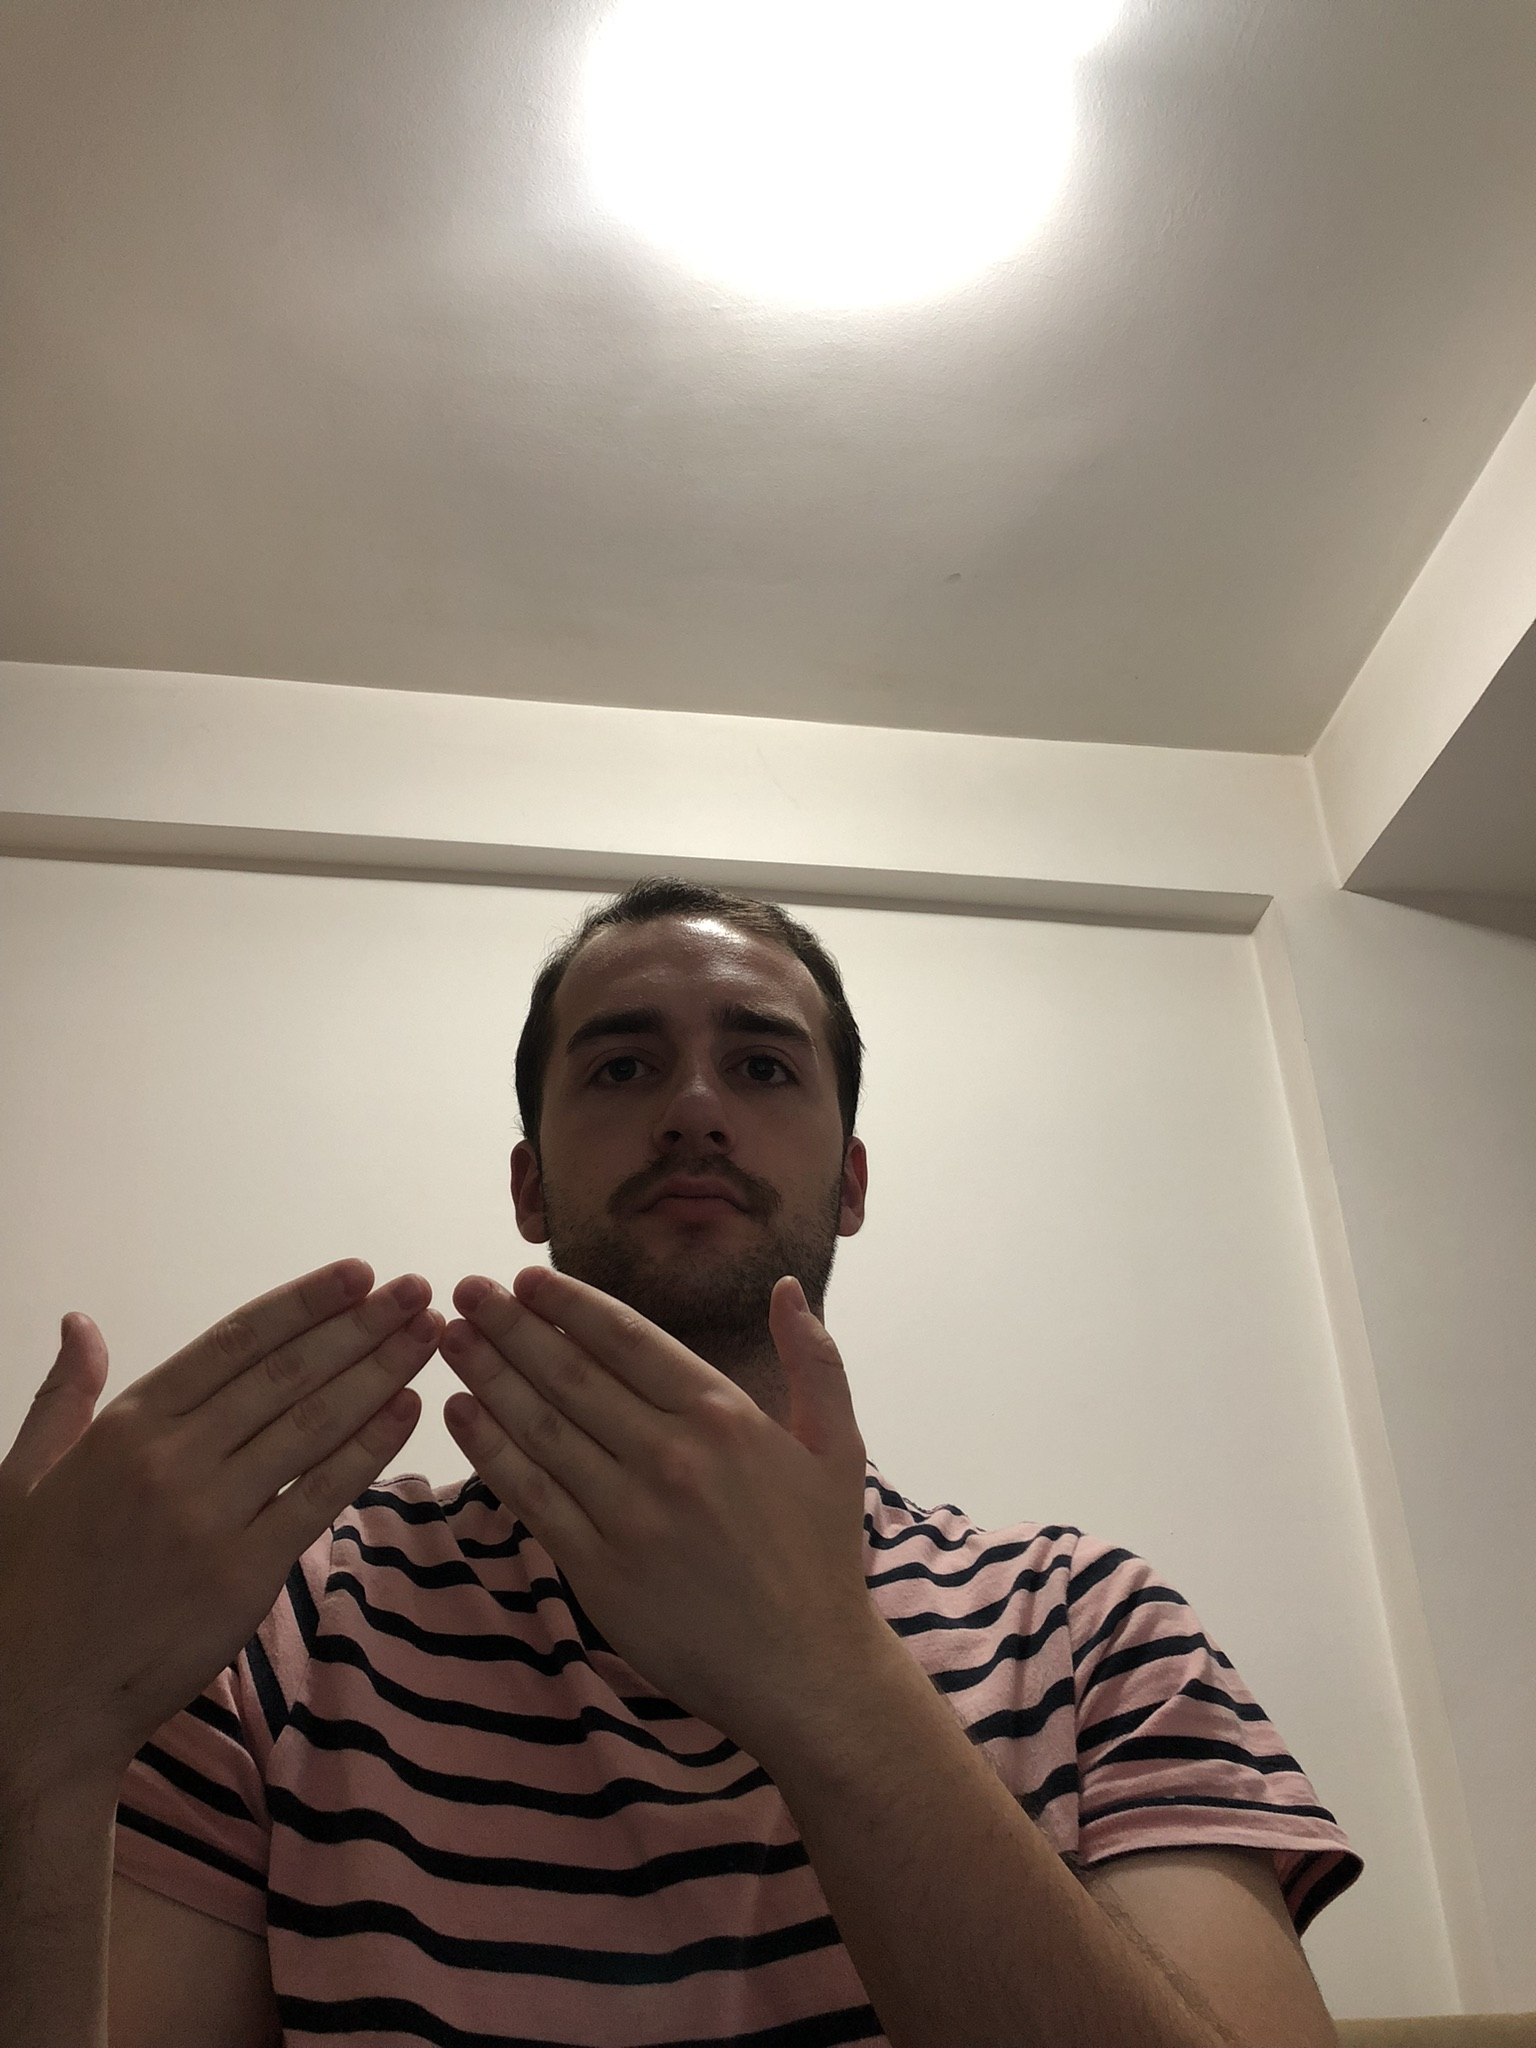Thank You: (10, 1251, 873, 1800)
